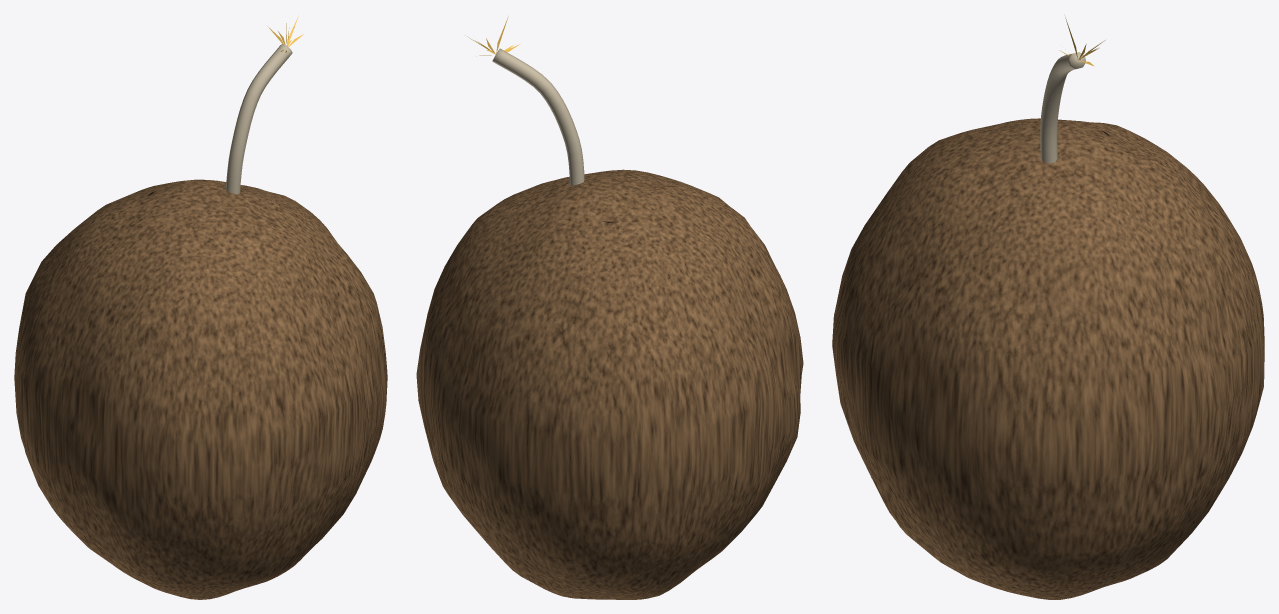
The model's file is Weapon_Coconut.fbx.
The picture shows the model from 3 angles, left to right: view 1: azimuth 30°, elevation 25°; view 2: azimuth 150°, elevation 25°; view 3: azimuth 270°, elevation 25°; orthographic projection. The views are drawn at different scales.
Parts seen in each view (by area): view 1: Weapon_Coconut_Game; view 2: Weapon_Coconut_Game; view 3: Weapon_Coconut_Game.
Part boxes in pixels (x1,y1,x2,y2): Weapon_Coconut_Game: [14, 15, 387, 599]; Weapon_Coconut_Game: [416, 16, 803, 599]; Weapon_Coconut_Game: [832, 17, 1264, 599].
Size of the model in its own units: 0.1206 by 0.1921 by 0.1212.
